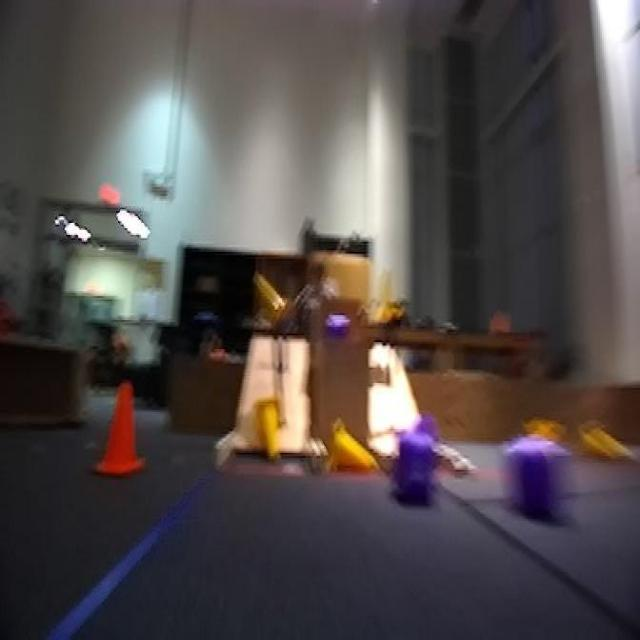frc_cone: (578, 419, 629, 473), (252, 393, 285, 465), (245, 267, 282, 330), (332, 420, 372, 470), (518, 408, 557, 441), (382, 272, 402, 325)
frc_cube: (510, 432, 558, 518), (396, 439, 432, 499), (323, 320, 352, 342)
